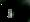person: (6, 10, 12, 19)
